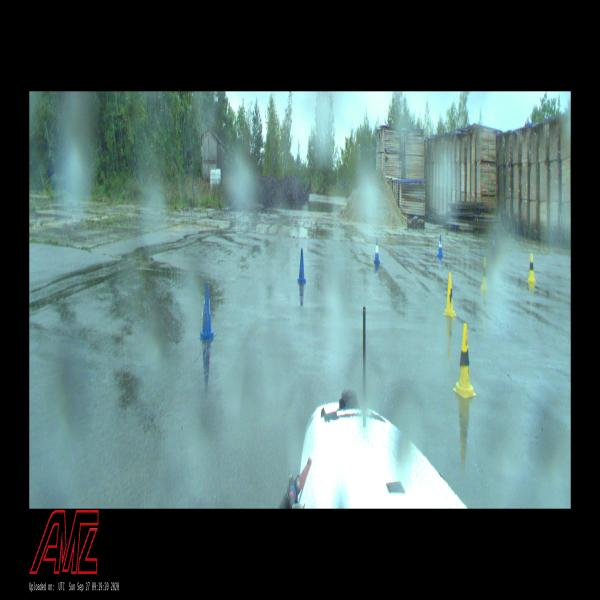blue_cone: (201, 283, 215, 339), (298, 250, 306, 282), (374, 238, 380, 264), (437, 235, 442, 257)
yellow_cone: (454, 324, 476, 397), (444, 273, 456, 316), (528, 253, 535, 282), (481, 258, 486, 288)
